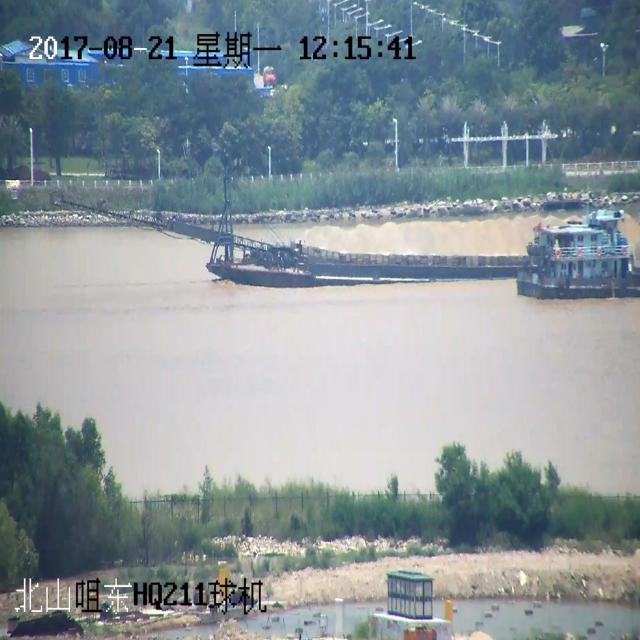cargoship: (170, 174, 634, 326)
